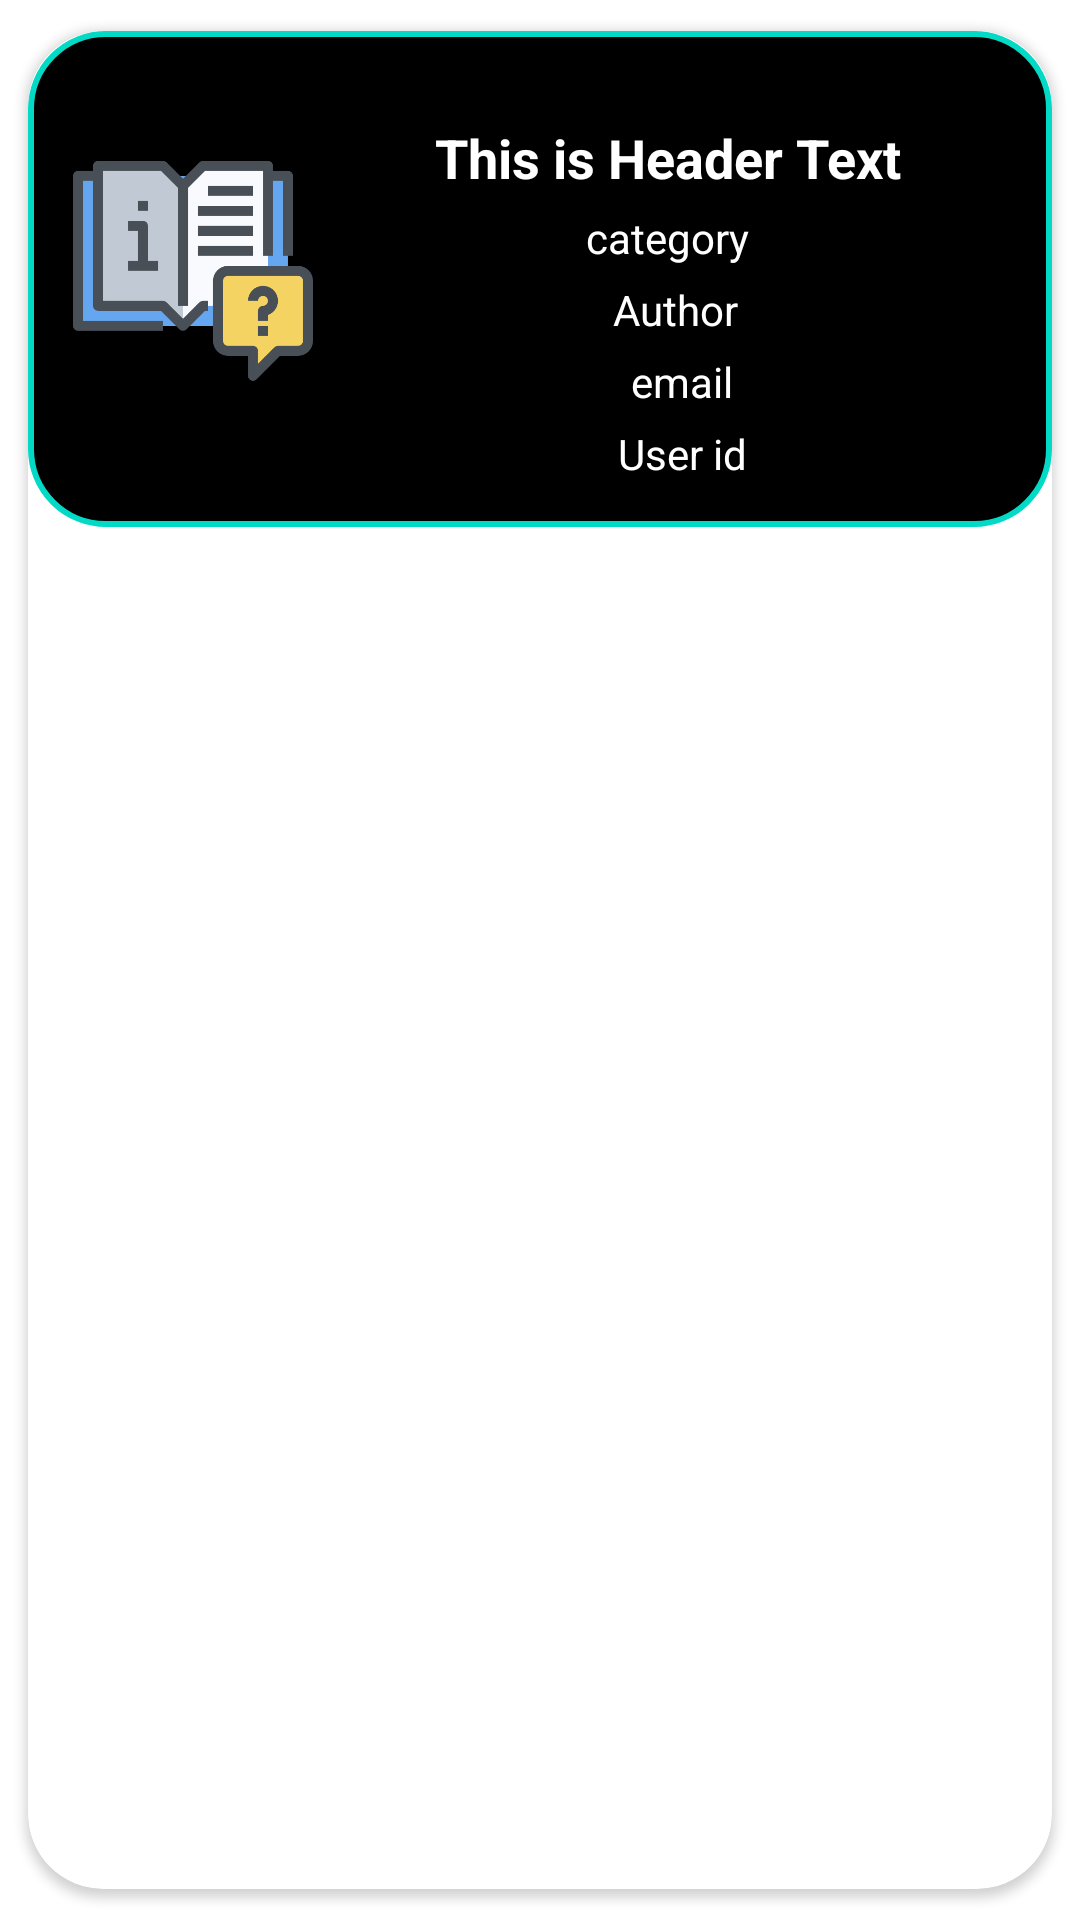

Named icons in this screenshot (1080×1920) and their bounding boxes, [left=x1, top=y1, right=x2, bottom=y2]:
request: [left=73, top=161, right=313, bottom=381]
